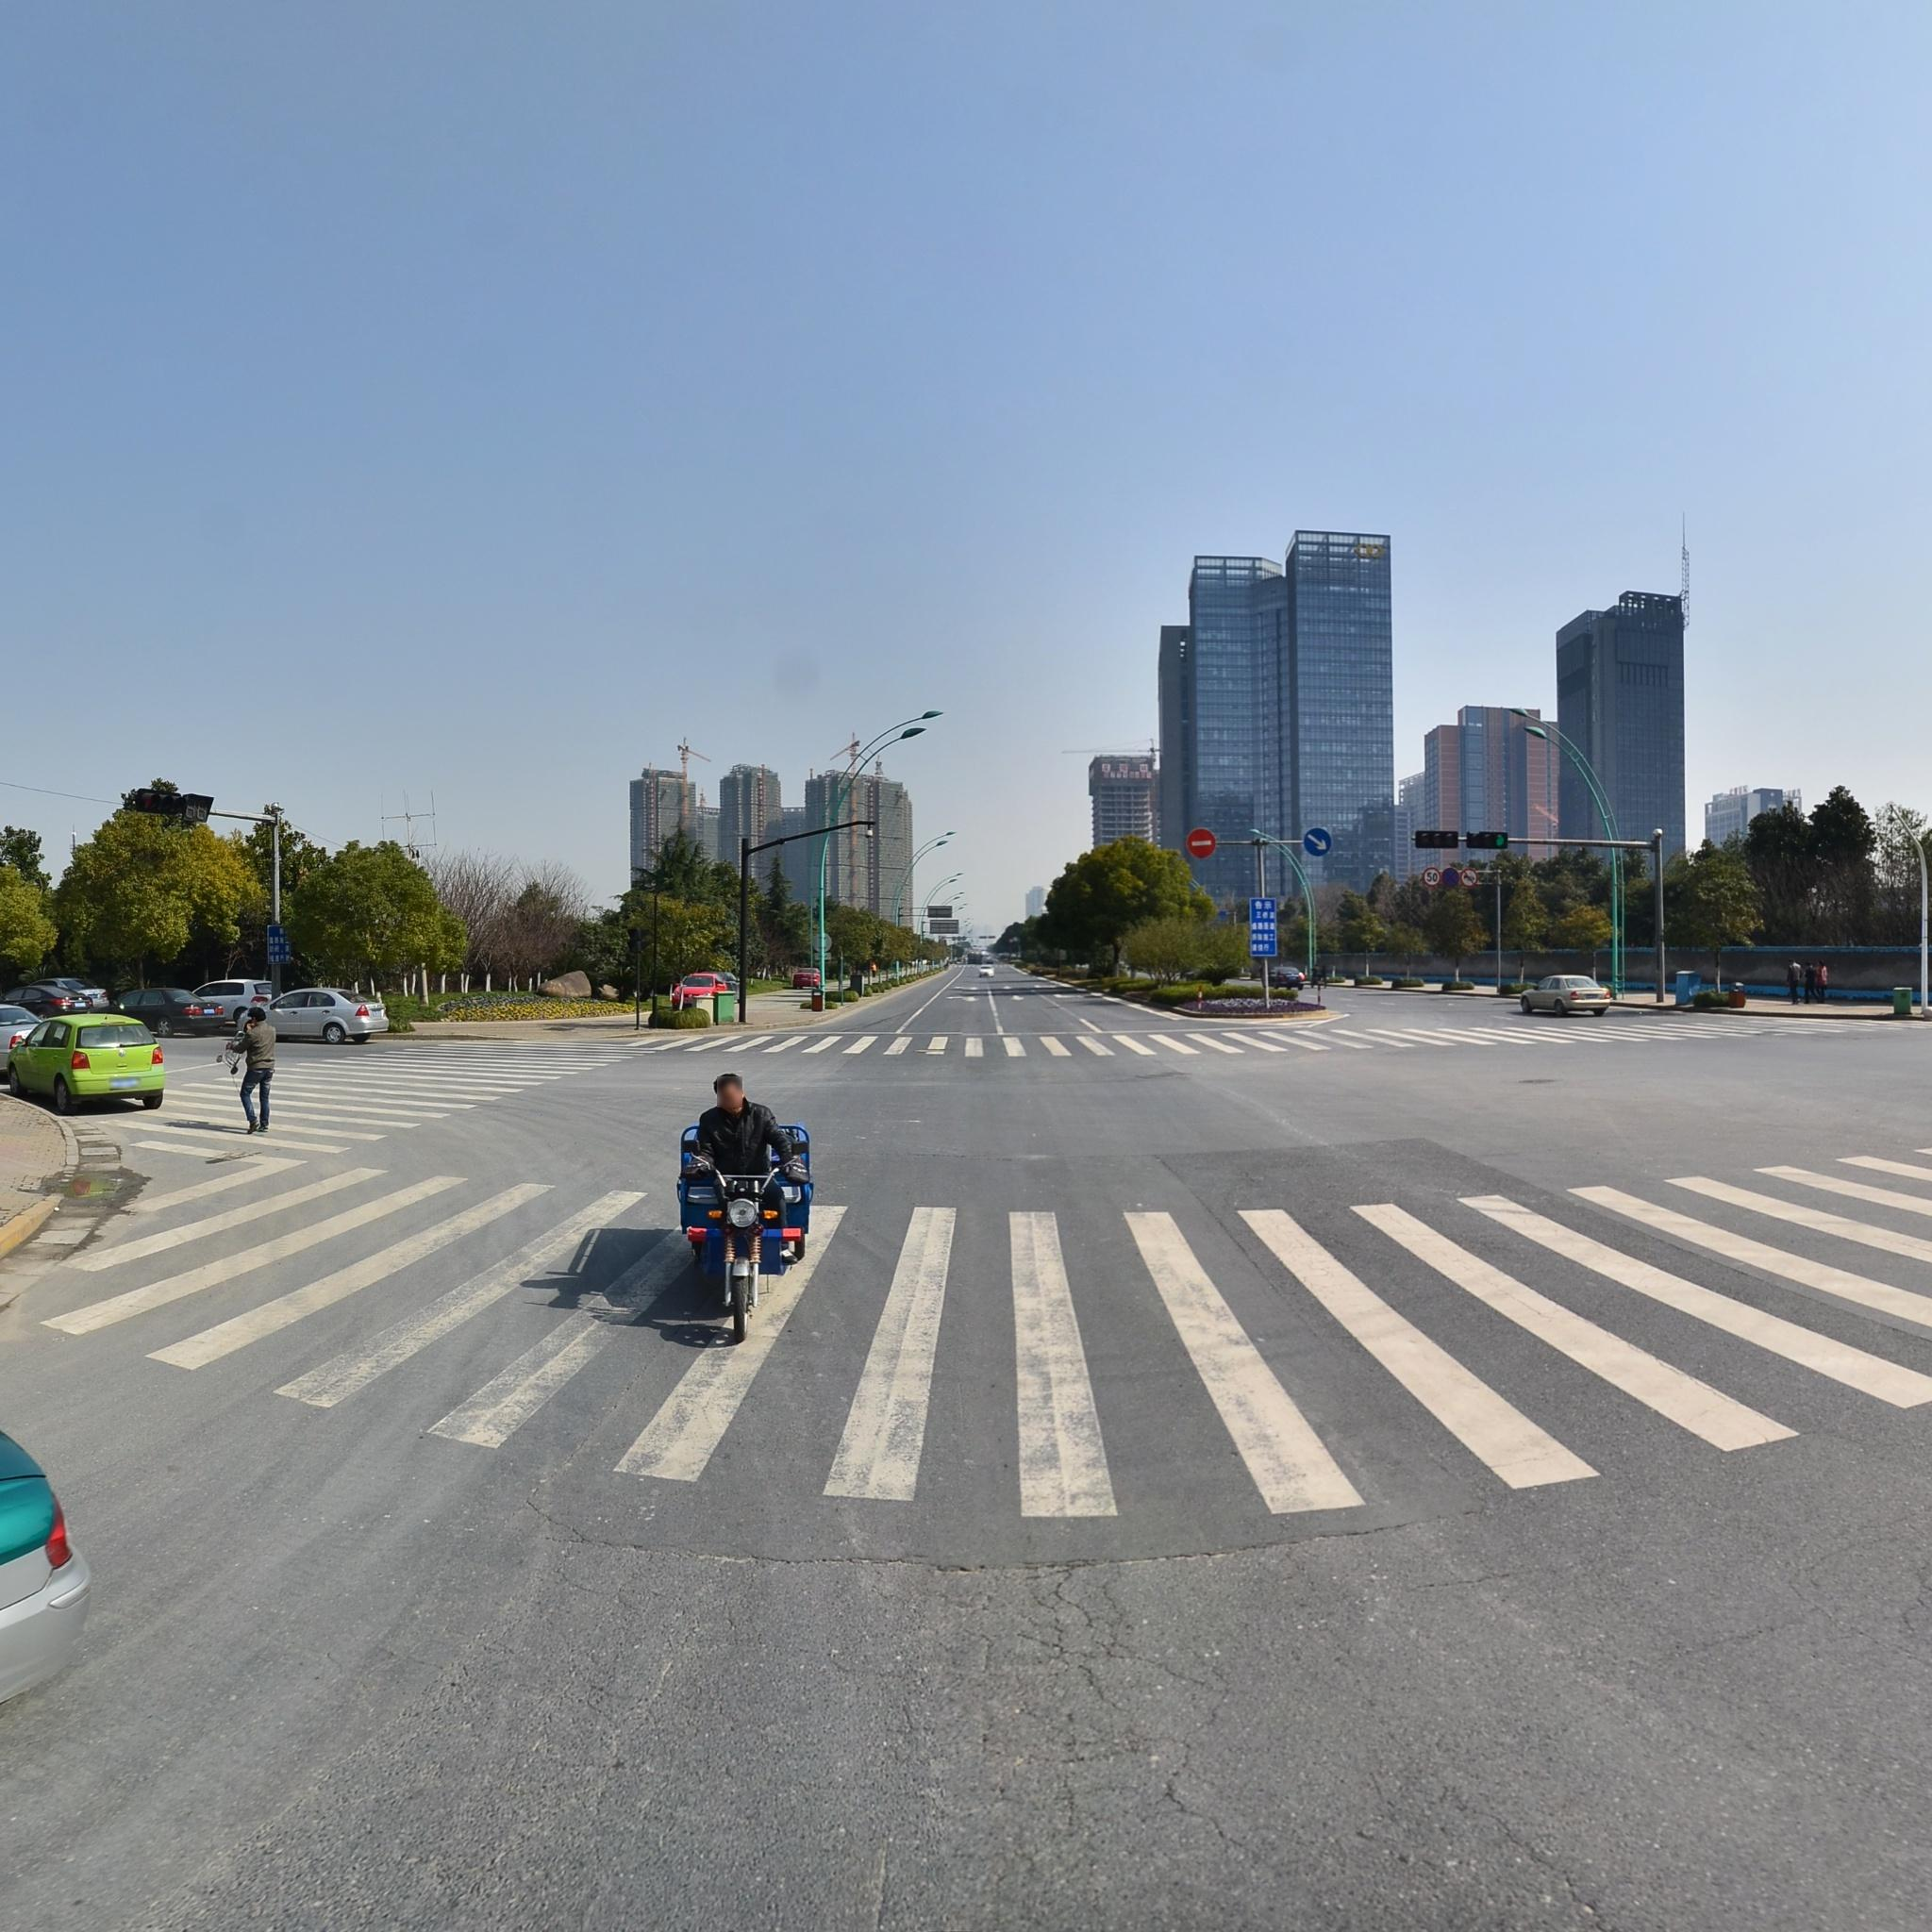i5: (1302, 826, 1332, 856)
pne: (1182, 826, 1217, 858)
